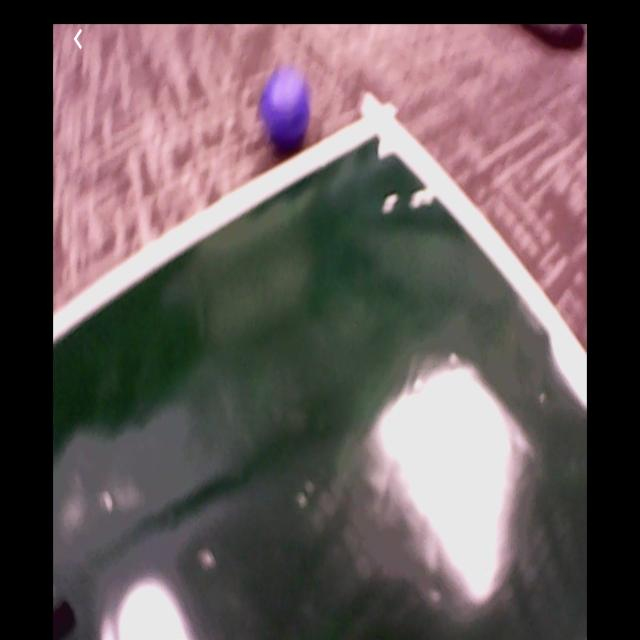ball: (261, 70, 312, 147)
